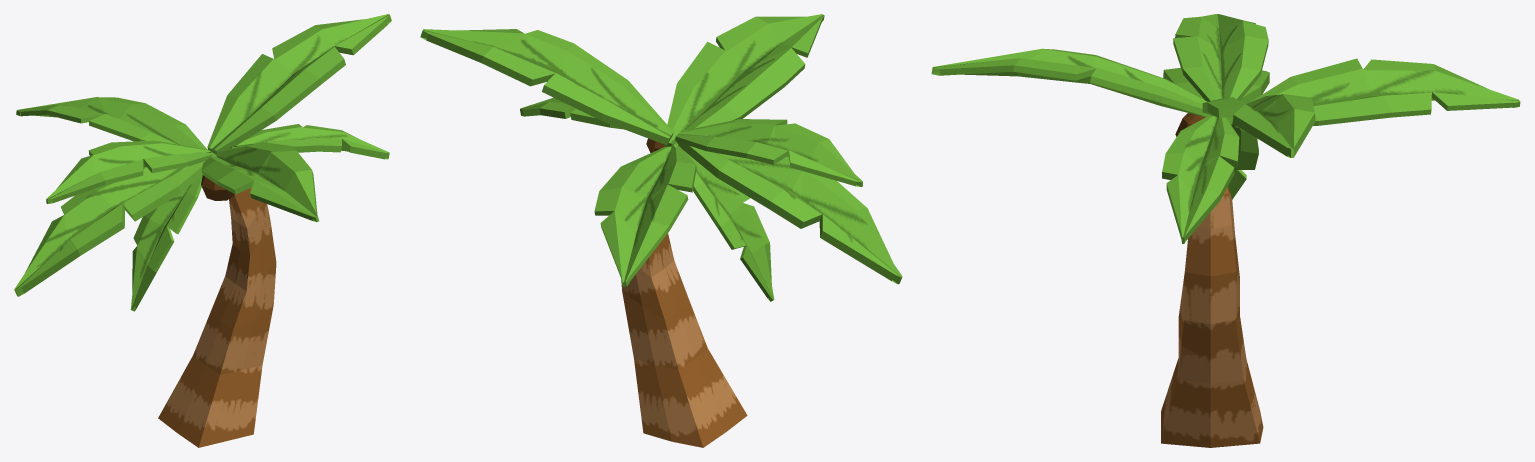
The model's file is Palmera_color.fbx.
3 renders of one model, left to right at view 1: azimuth 30°, elevation 25°; view 2: azimuth 150°, elevation 25°; view 3: azimuth 270°, elevation 25°, orthographic. The views are drawn at different scales.
Visible parts, largest first — view 1: Cube, Plane.002, Plane.001, Plane.004, Plane.006, Plane.005, Plane, Plane.003, Sphere; view 2: Cube, Plane.004, Plane.002, Plane.001, Plane.005, Plane.006, Plane, Plane.003; view 3: Cube, Plane.005, Plane.004, Plane.006, Plane.003, Plane.002, Plane, Plane.001.
Boxes of the visible parts, bbox=[...] form: Cube: bbox=[158, 187, 276, 447]; Plane.002: bbox=[207, 14, 391, 153]; Plane.001: bbox=[14, 154, 216, 296]; Plane.004: bbox=[201, 142, 319, 221]; Plane.006: bbox=[46, 140, 213, 203]; Plane.005: bbox=[16, 97, 207, 149]; Plane: bbox=[130, 175, 202, 311]; Plane.003: bbox=[230, 124, 389, 159]; Sphere: bbox=[201, 175, 234, 200]; Cube: bbox=[621, 233, 747, 447]; Plane.004: bbox=[663, 14, 824, 146]; Plane.002: bbox=[420, 29, 673, 145]; Plane.001: bbox=[675, 129, 902, 284]; Plane.005: bbox=[594, 146, 696, 286]; Plane.006: bbox=[675, 119, 862, 186]; Plane: bbox=[671, 142, 774, 301]; Plane.003: bbox=[520, 97, 623, 129]; Cube: bbox=[1161, 186, 1263, 447]; Plane.005: bbox=[1232, 58, 1520, 127]; Plane.004: bbox=[931, 48, 1233, 124]; Plane.006: bbox=[1173, 14, 1268, 101]; Plane.003: bbox=[1162, 115, 1239, 243]; Plane.002: bbox=[1202, 94, 1315, 157]; Plane: bbox=[1228, 123, 1258, 199]; Plane.001: bbox=[1163, 67, 1269, 104].
Bounding box in the file's own units: 1420 × 1111 × 1453.
Materials: 10 (10 with a texture image).
